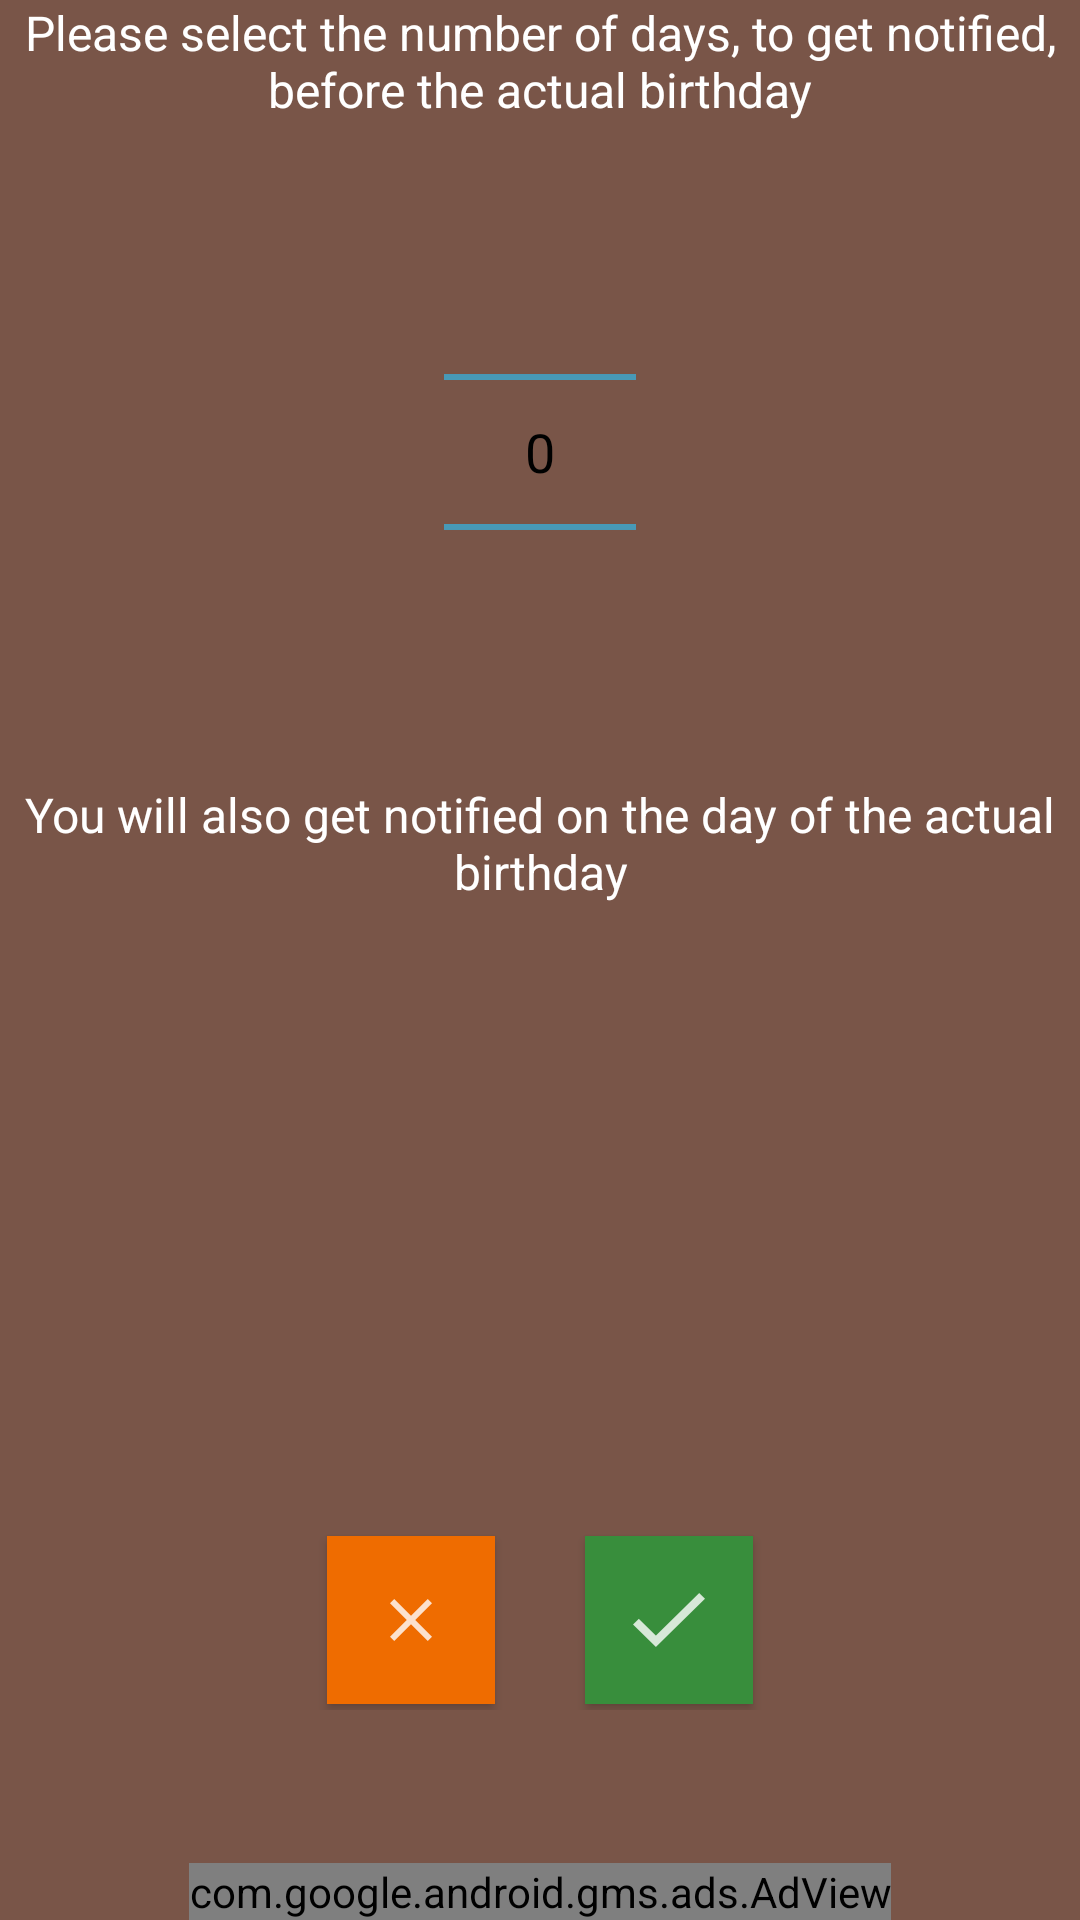

Icon bounding boxes for this 1080x1920 phone screenshot, format (x1, y1, x2, y2):
cancel: (327, 1536, 495, 1704)
done: (585, 1536, 753, 1704)
